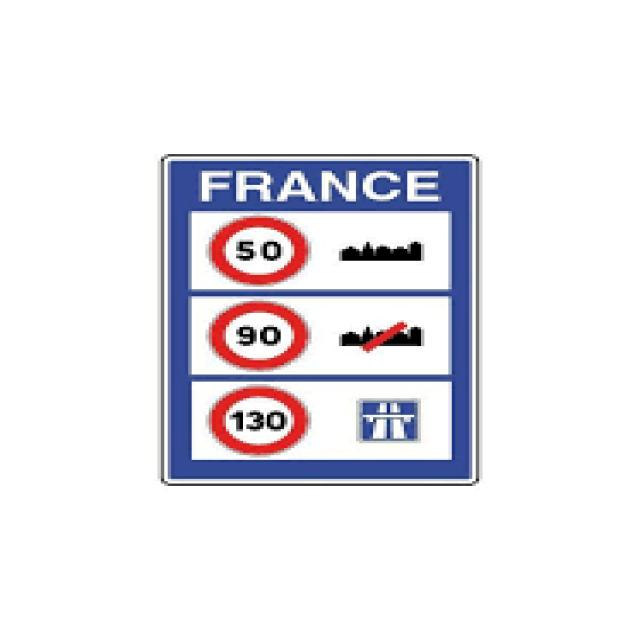speed: (205, 213, 308, 284), (208, 301, 304, 372), (212, 386, 308, 453)
